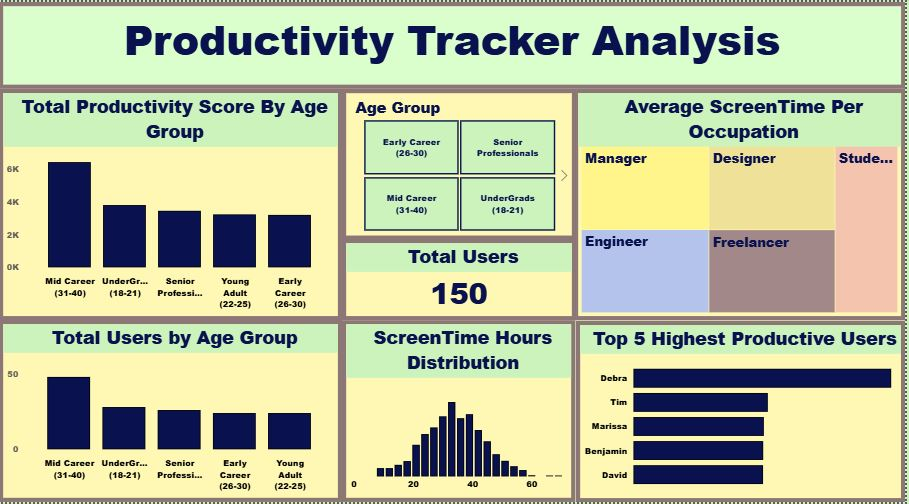

This screenshot's page, from the dashboard's own definition file:
{"tool":"powerbi","page":{"name":"User Segmentation","canvas":[1305,720],"ordinal":2},"visuals":[{"type":"clusteredColumnChart","title":"Total Productivity Score By Age Group","fields":{"Y":["Sum(Productivity Table.ProductivityScore)"],"Category":["Productivity Table.Age Group"]},"box":[0,125.3,493.9,332.6],"z":0},{"type":"clusteredColumnChart","fields":{"Category":["Productivity Table.Age Group"],"Y":["Measures .Total Users"]},"box":[0,458.6,493.9,262],"z":1000},{"type":"barChart","title":"Top 5 Highest Productive Users","fields":{"Category":["Productivity Table.User's Name"],"Y":["Sum(Productivity Table.ProductivityScore)"]},"box":[830.9,459.4,473.8,260.6],"z":2000},{"type":"columnChart","title":" ScreenTime Hours Distribution","fields":{"Y":["CountNonNull(Productivity Table.ScreenTimeHours)"],"Category":["Productivity Table.ScreenTimeHours Distribution"]},"box":[493.9,458.6,336,262],"z":3000},{"type":"treemap","title":"Average ScreenTime Per Occupation","fields":{"Group":["Productivity Table.Occupation"],"Values":["Avg(Productivity Table.ScreenTimeHours)"]},"box":[828,125.3,476.6,332.6],"z":4000},{"type":"textbox","box":[0,0,1304.6,125.3],"z":5000},{"type":"slicer","fields":{"Values":["Productivity Table.Age Group"]},"box":[493.9,125.3,337,217.4],"z":6000},{"type":"card","title":"Total Users","fields":{"Values":["Measures .Total Users"]},"box":[493.9,341.3,337,116.6],"z":7000}]}

Visuals, with their boxes in screenshot pixels (x1, y1, x2, y2), scaled from the page's 1305x720 canvas onto the 909x504 screenshot:
"Total Productivity Score By Age Group" clusteredColumnChart: bbox=[0, 88, 344, 321]
clusteredColumnChart - Productivity Table.Age Group x Measures .Total Users: bbox=[0, 321, 344, 503]
"Top 5 Highest Productive Users" barChart: bbox=[579, 322, 908, 503]
" ScreenTime Hours Distribution" columnChart: bbox=[344, 321, 578, 503]
"Average ScreenTime Per Occupation" treemap: bbox=[577, 88, 908, 321]
textbox: bbox=[0, 0, 908, 88]
slicer - Productivity Table.Age Group: bbox=[344, 88, 579, 240]
"Total Users" card: bbox=[344, 239, 579, 321]
